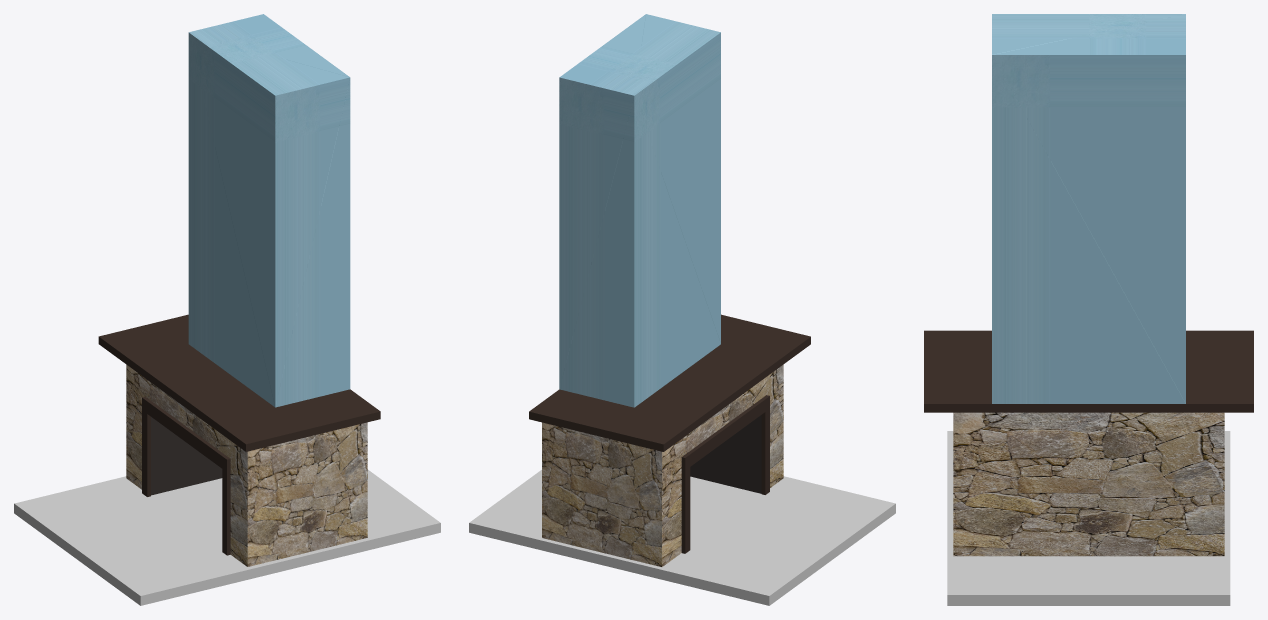
The model's file is chimney.glb.
The picture shows the model from 3 angles, left to right: view 1: azimuth 30°, elevation 25°; view 2: azimuth 150°, elevation 25°; view 3: azimuth 270°, elevation 25°; orthographic projection. The views are drawn at different scales.
Parts seen in each view (by area): view 1: Casework 6 Casework 6 [271720], Cube, Casework 7 Casework 7 [271987], Casework 9 Casework 9 [273579], Object004, Casework 8 Casework 8 [272402]; view 2: Casework 6 Casework 6 [271720], Cube, Casework 7 Casework 7 [271987], Casework 9 Casework 9 [273579], Object004, Casework 8 Casework 8 [272402]; view 3: Casework 6 Casework 6 [271720], Casework 7 Casework 7 [271987], Cube, Casework 9 Casework 9 [273579].
Boxes of the visible parts, <box> form: Casework 6 Casework 6 [271720]: <box>188,14,350,407</box>; Cube: <box>14,469,440,605</box>; Casework 7 Casework 7 [271987]: <box>126,364,367,566</box>; Casework 9 Casework 9 [273579]: <box>98,314,380,451</box>; Object004: <box>151,417,222,495</box>; Casework 8 Casework 8 [272402]: <box>142,397,230,555</box>; Casework 6 Casework 6 [271720]: <box>559,14,720,407</box>; Cube: <box>469,470,895,605</box>; Casework 7 Casework 7 [271987]: <box>542,364,783,566</box>; Casework 9 Casework 9 [273579]: <box>529,314,810,451</box>; Object004: <box>690,415,761,493</box>; Casework 8 Casework 8 [272402]: <box>681,395,769,553</box>; Casework 6 Casework 6 [271720]: <box>992,14,1185,403</box>; Casework 7 Casework 7 [271987]: <box>953,412,1224,556</box>; Cube: <box>947,431,1230,605</box>; Casework 9 Casework 9 [273579]: <box>924,330,1253,412</box>.
Size of the model in its own units: 2 by 2.91 by 1.7.
6 materials, 2 textured.
